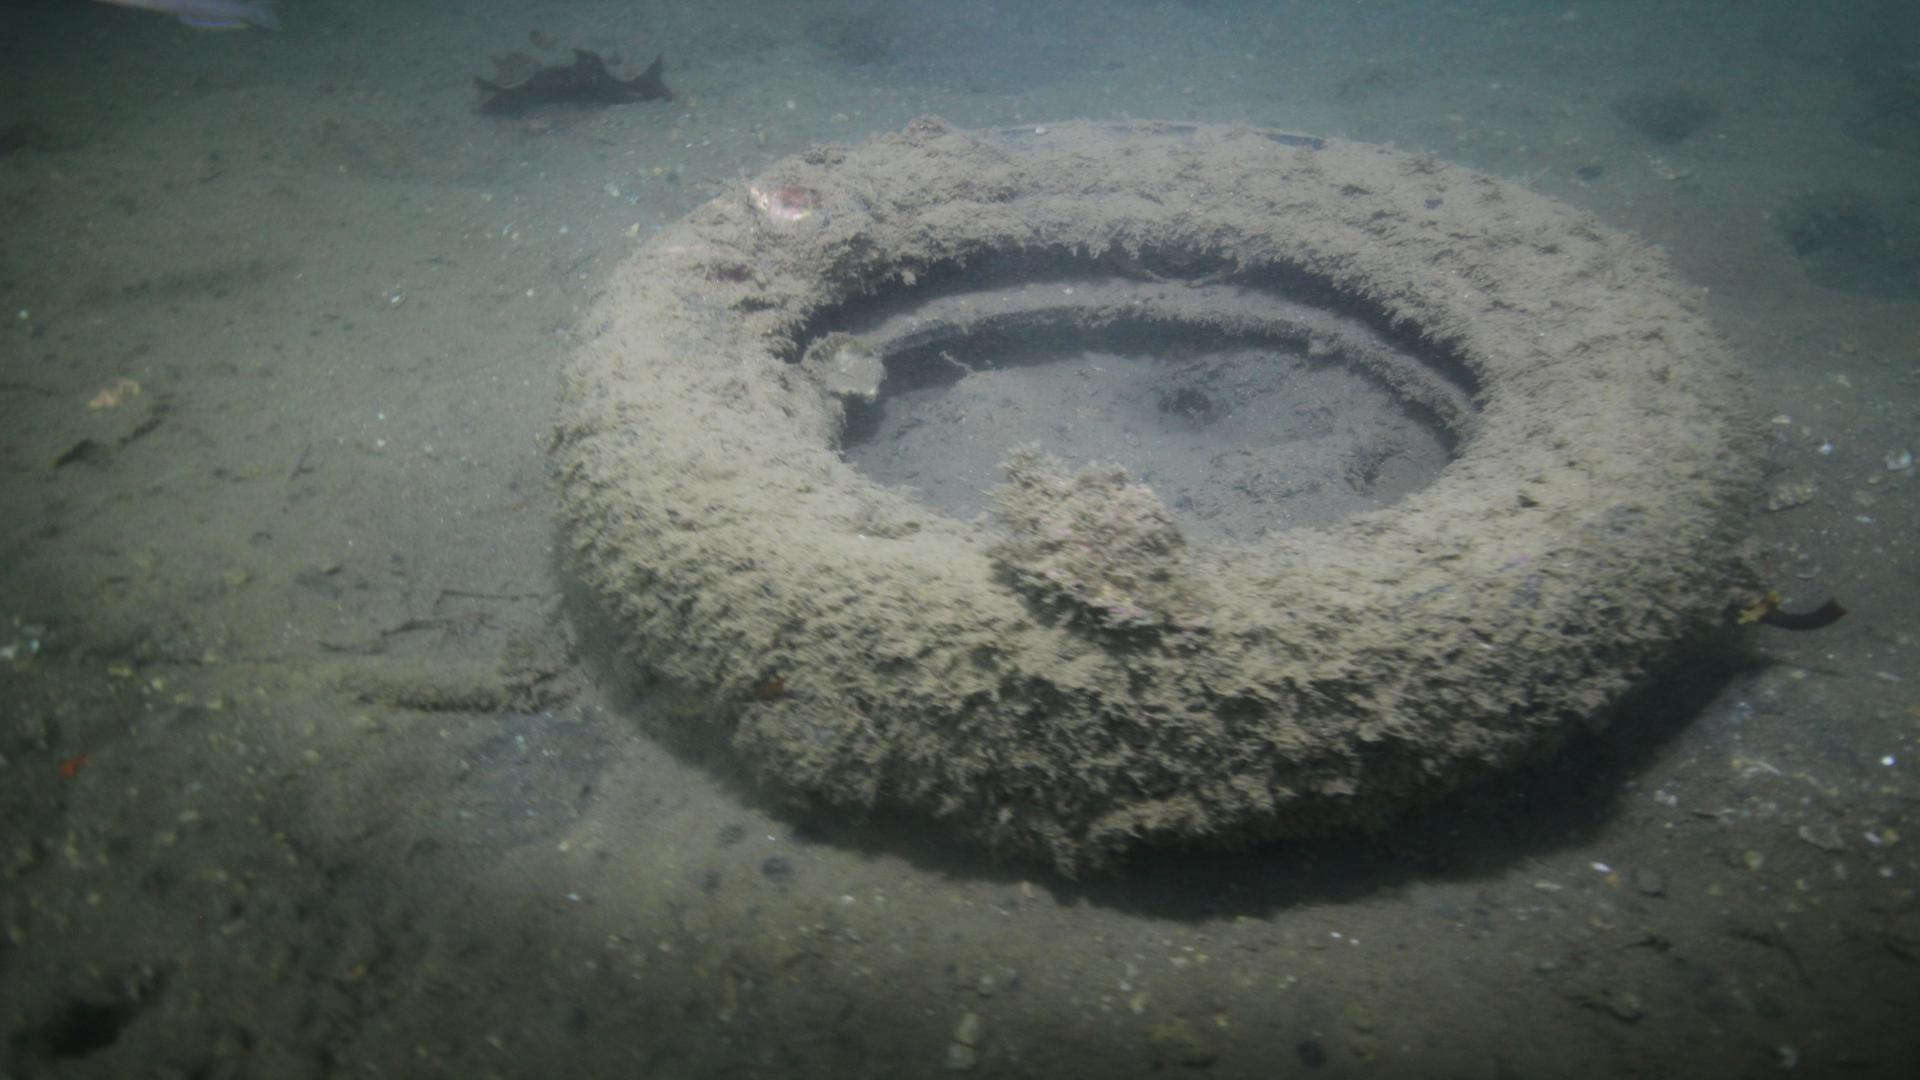tire: (551, 117, 1764, 872)
